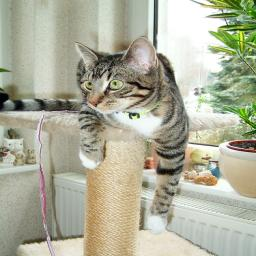catnose: (87, 100, 103, 108)
